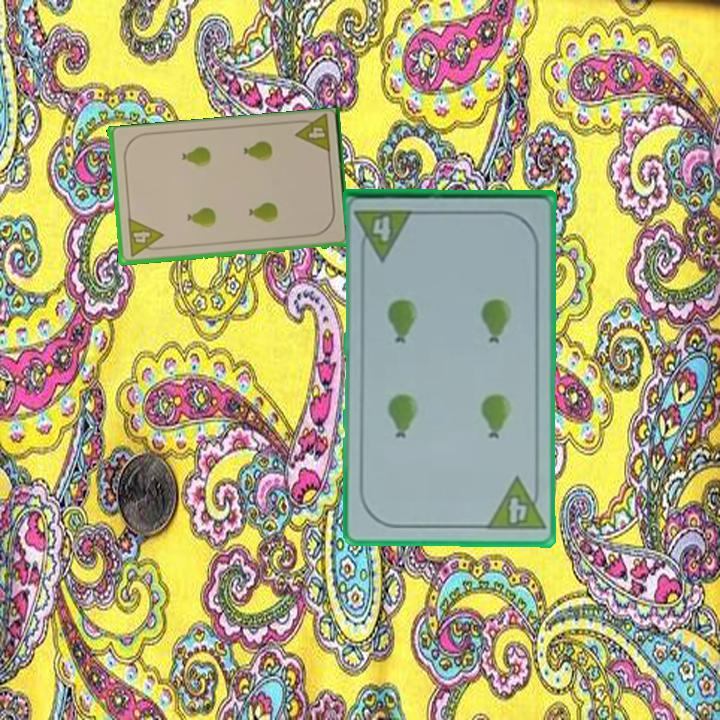4p: (483, 474, 548, 533), (351, 206, 416, 263), (290, 113, 333, 157), (124, 215, 166, 260)
